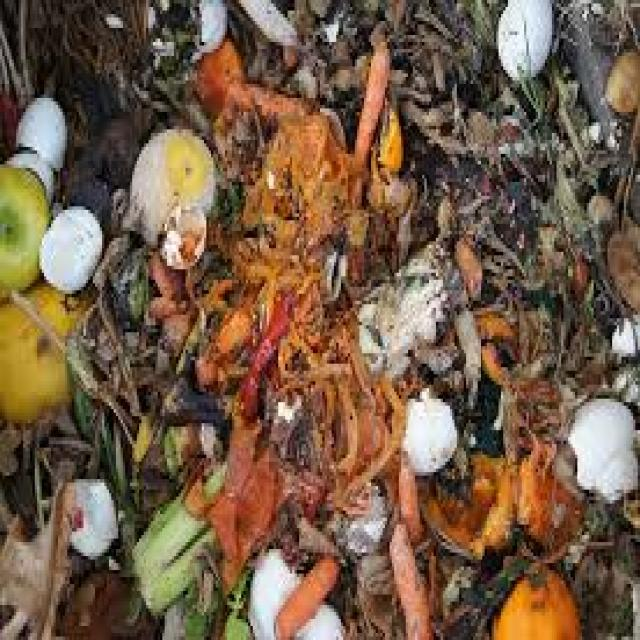food_waste: (60, 77, 565, 598)
